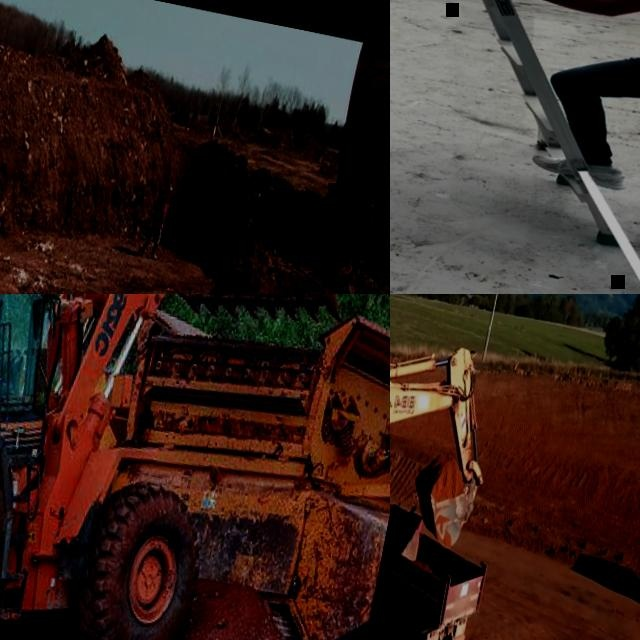Hardhat: (166, 183, 174, 190)
NO-Safety Vest: (151, 194, 170, 227)
Person: (400, 0, 640, 265), (138, 177, 174, 259), (0, 300, 17, 392)
machinery: (0, 294, 371, 640), (70, 294, 390, 640), (390, 294, 507, 635), (307, 38, 390, 267), (390, 492, 496, 640)
